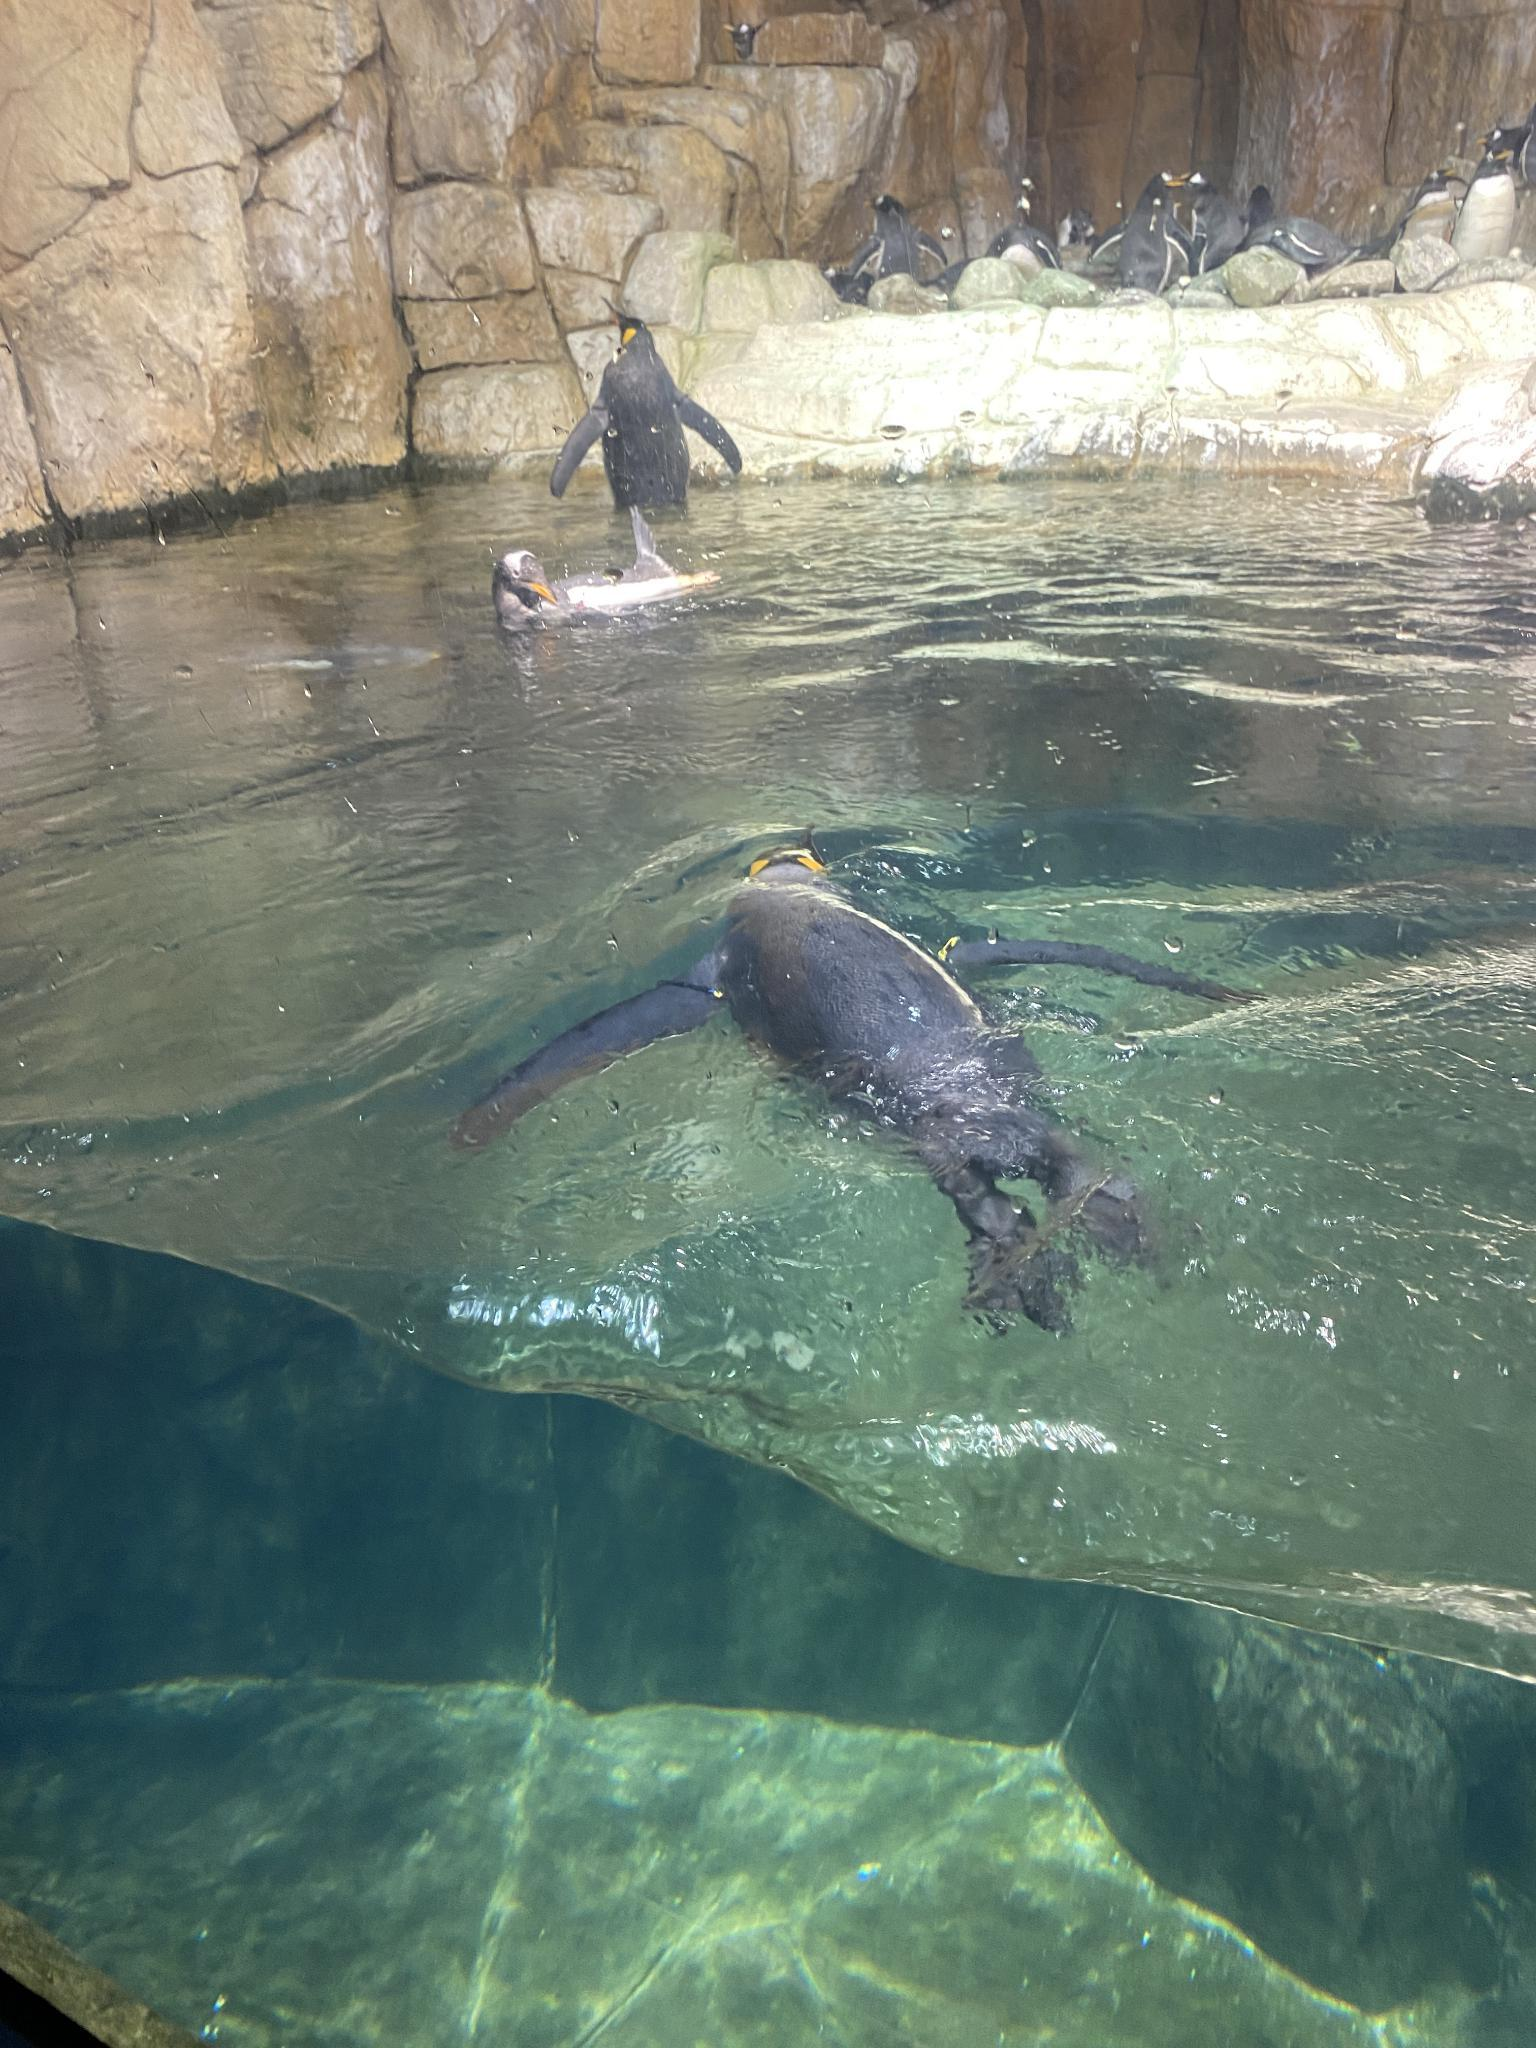penguin: (461, 822, 1260, 1327), (550, 300, 741, 522), (490, 508, 720, 629), (1086, 169, 1194, 297), (1357, 164, 1460, 292), (1455, 121, 1530, 273), (842, 190, 950, 293), (1171, 168, 1249, 282), (1238, 210, 1347, 269), (992, 185, 1062, 276)
